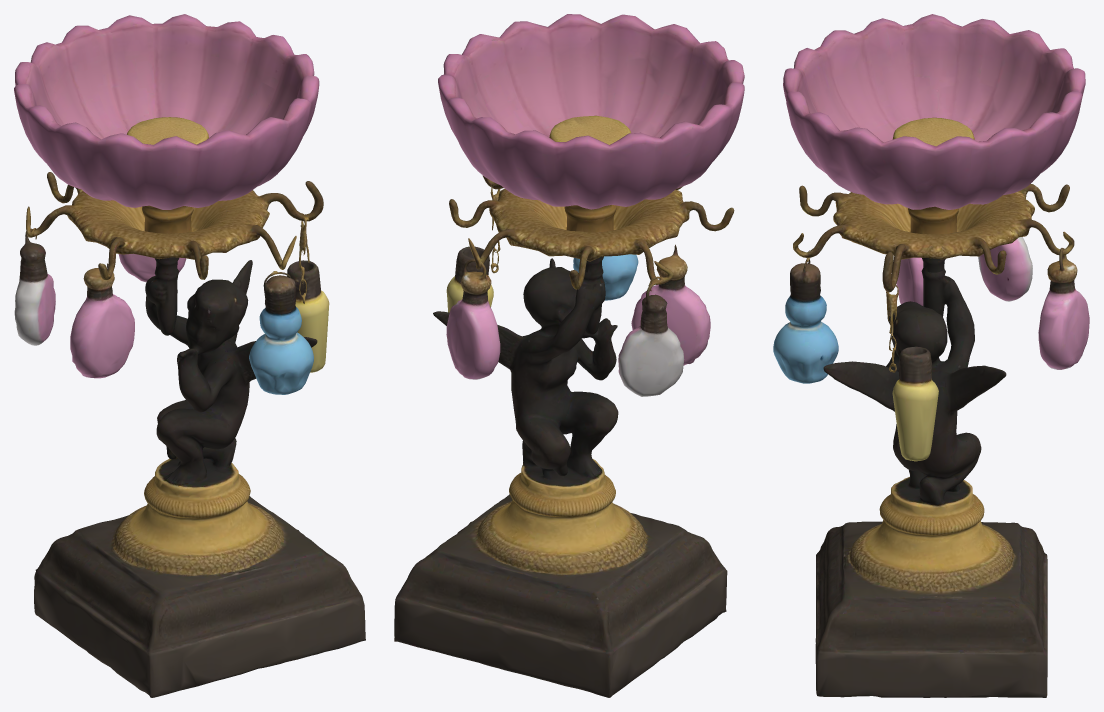
File: 粉色玻璃小天使烛台.glb
3 renders of one model, left to right at view 1: azimuth 30°, elevation 25°; view 2: azimuth 150°, elevation 25°; view 3: azimuth 270°, elevation 25°, orthographic.
Visible parts, largest first — view 1: tripo_node_f8c0c9d0; view 2: tripo_node_f8c0c9d0; view 3: tripo_node_f8c0c9d0.
Boxes of the visible parts, x1,y1,x2,y2 form: tripo_node_f8c0c9d0: (14, 14, 365, 697); tripo_node_f8c0c9d0: (394, 14, 744, 697); tripo_node_f8c0c9d0: (773, 14, 1089, 697).
Bounding box in the file's own units: 52.12 × 97.95 × 50.47.
1 material, 1 textured.
